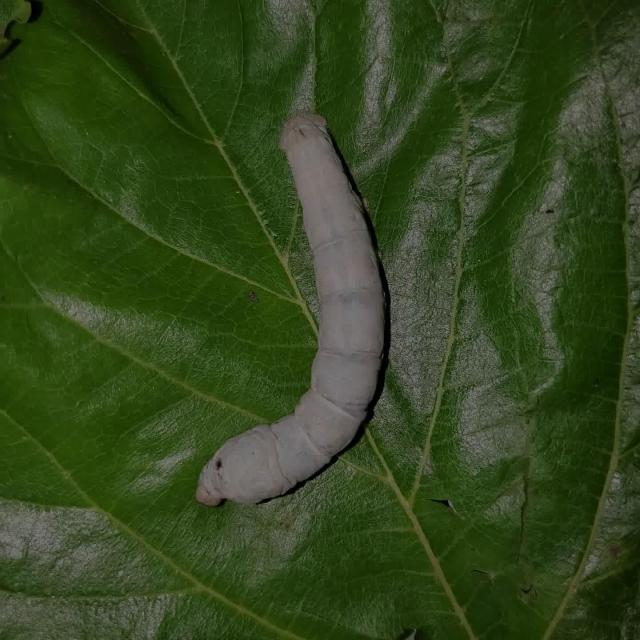Healthy: (177, 88, 440, 528)
